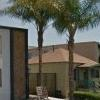Tree: (26, 0, 100, 50)
